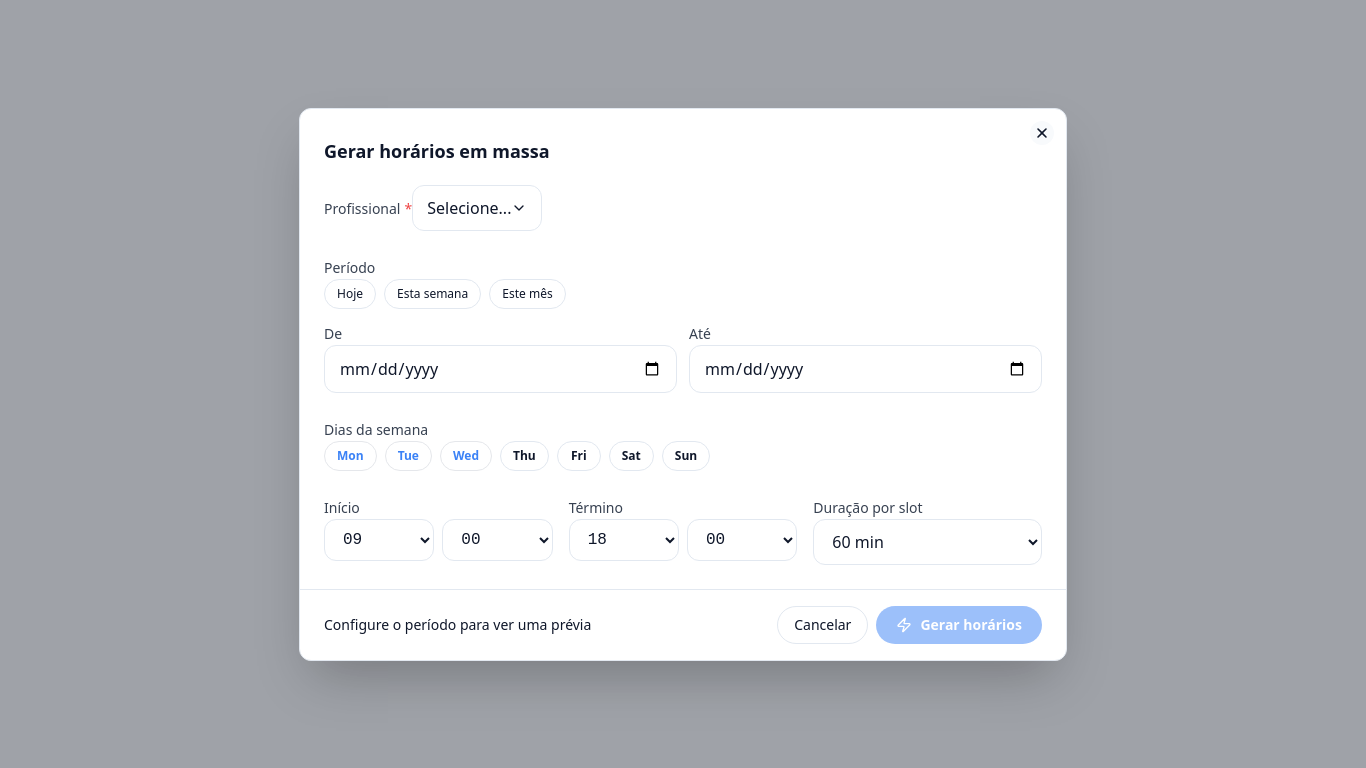
SlotBulkModal - sincronização de dia da semana no período "Hoje" › mostra a prévia de horários assim que "Hoje" é selecionado, sem passos extra
# Selecionar profissional primeiro (necessário para a prévia)
Click the button "Selecione...": [477, 208] box [412,184,542,230]
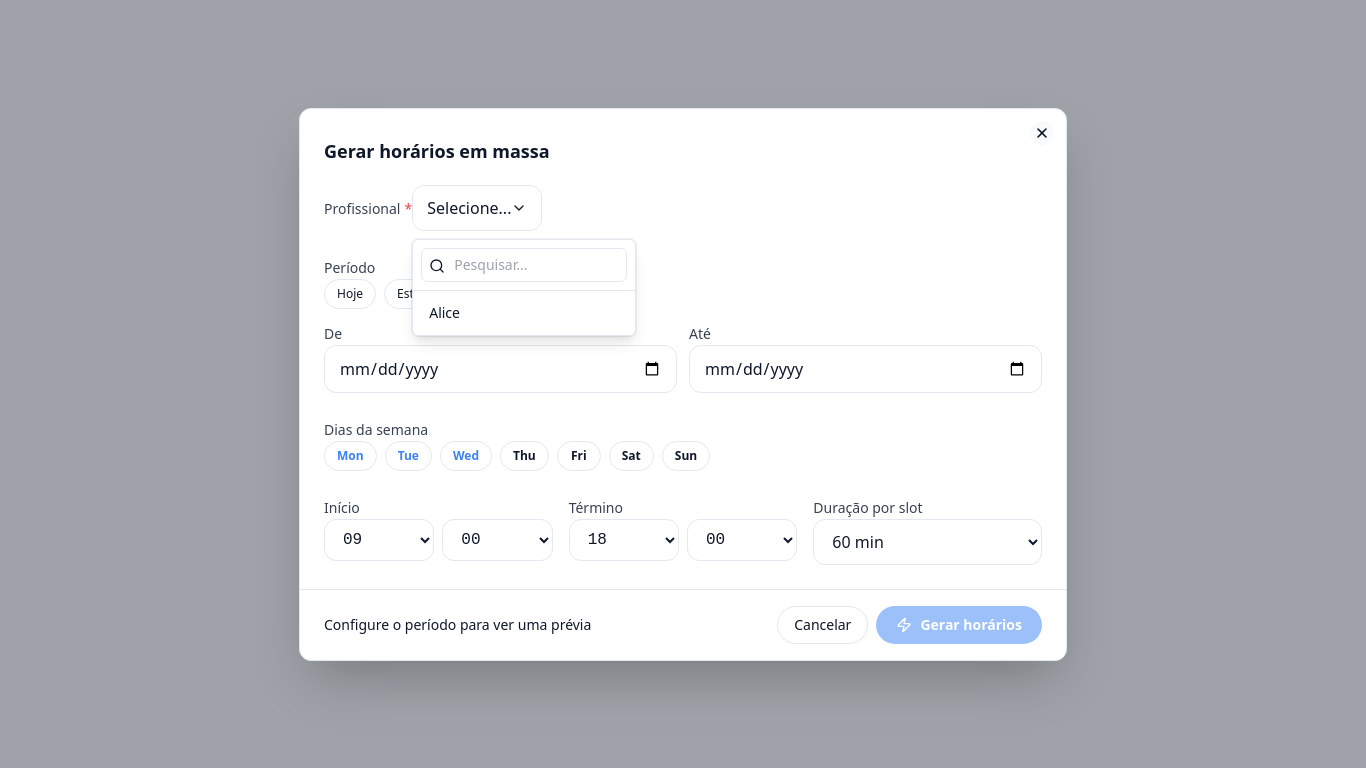
Click the button "Alice": [524, 312] box [413,294,635,330]
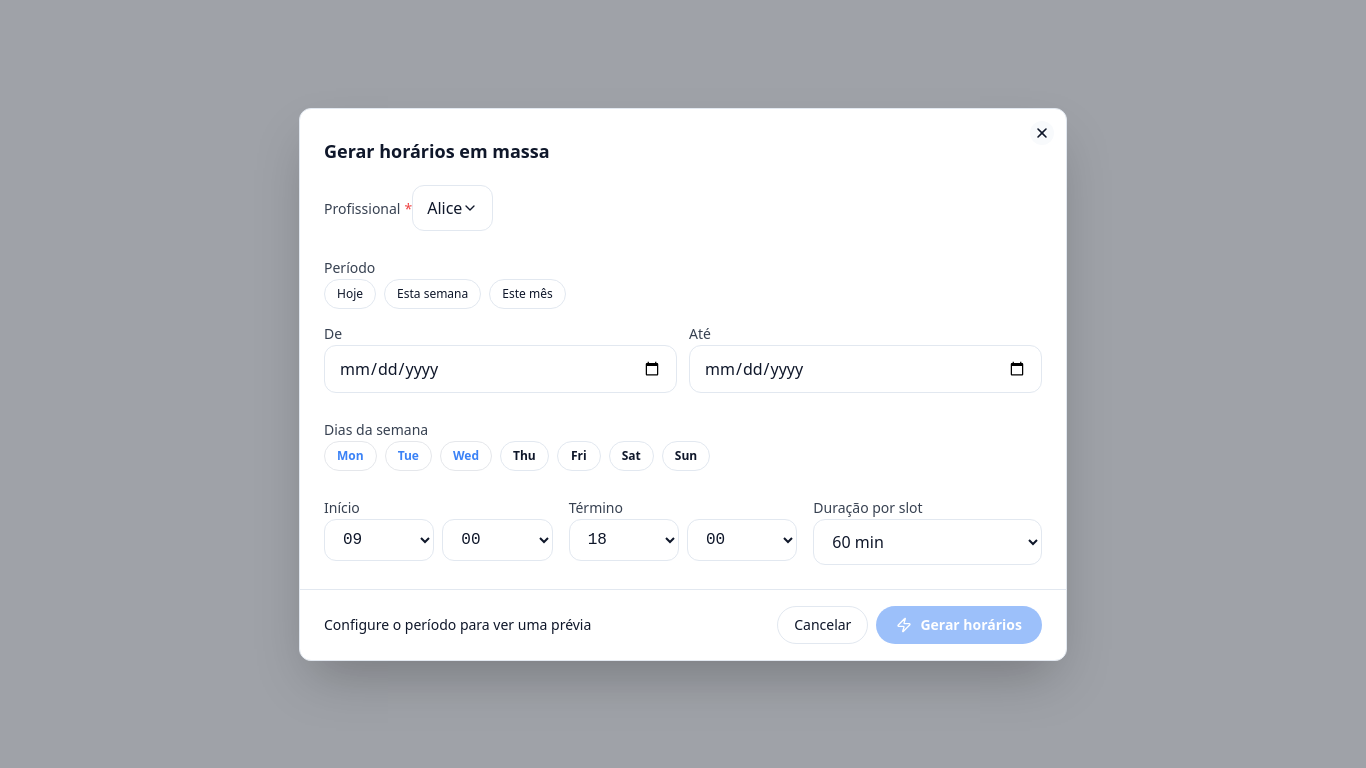
Click the button "Hoje": [350, 294] box [324,278,376,308]
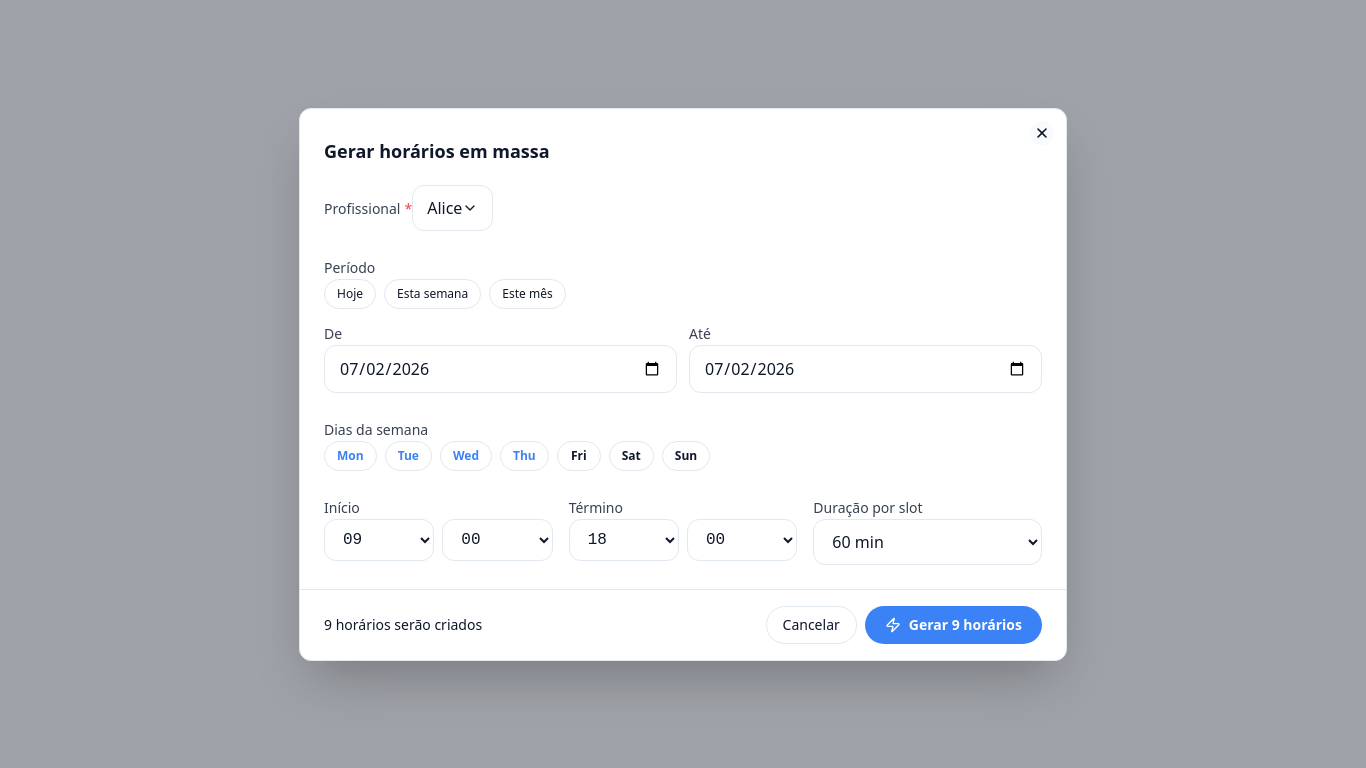
Expected: the text "9 horários serão criados" is shown, [324,614,482,634]
